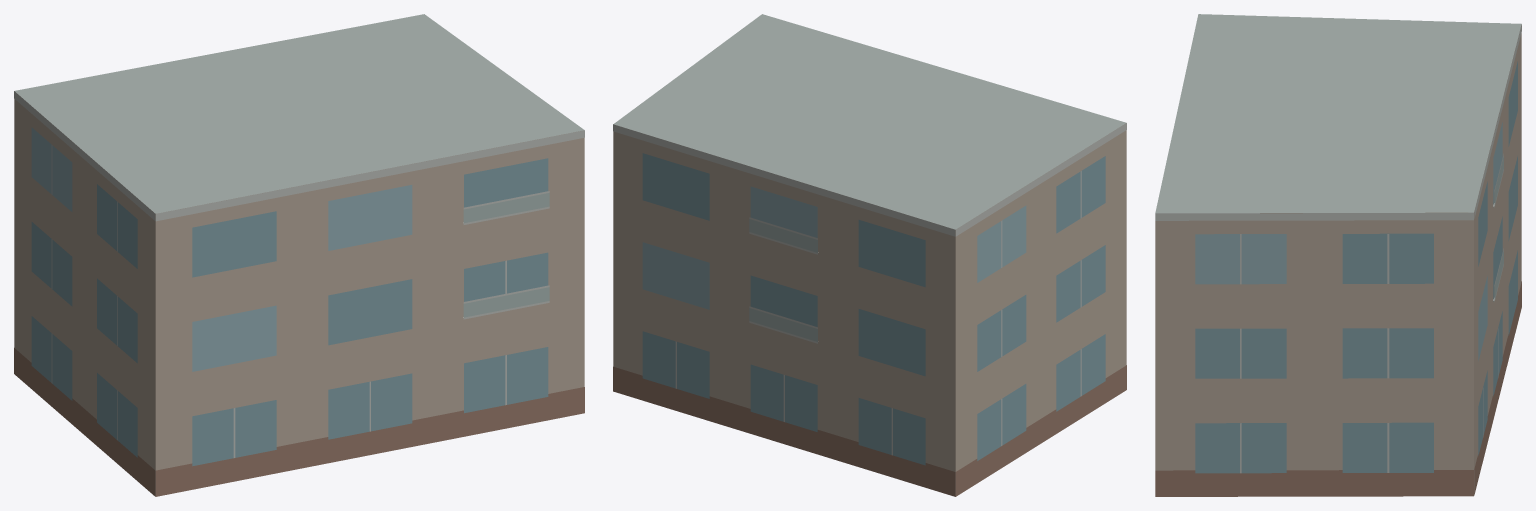
The model's file is survey-upis-32581540.glb.
3 renders of one model, left to right at view 1: azimuth 30°, elevation 25°; view 2: azimuth 150°, elevation 25°; view 3: azimuth 270°, elevation 25°, orthographic. The views are drawn at different scales.
Visible parts, largest first — view 1: survey-upis-32581540.tmp; view 2: survey-upis-32581540.tmp; view 3: survey-upis-32581540.tmp.
Boxes of the visible parts, box(x1,y1,x2,y2) form: survey-upis-32581540.tmp: box(14, 14, 584, 496); survey-upis-32581540.tmp: box(613, 14, 1126, 496); survey-upis-32581540.tmp: box(1155, 14, 1521, 496).
Bounding box in the file's own units: 13.8 × 9.15 × 10.73.
